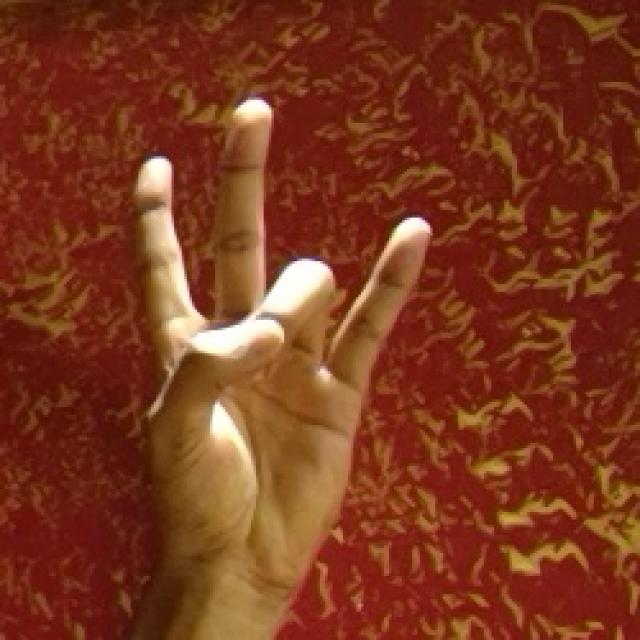Numeric-7: (95, 88, 441, 594)
